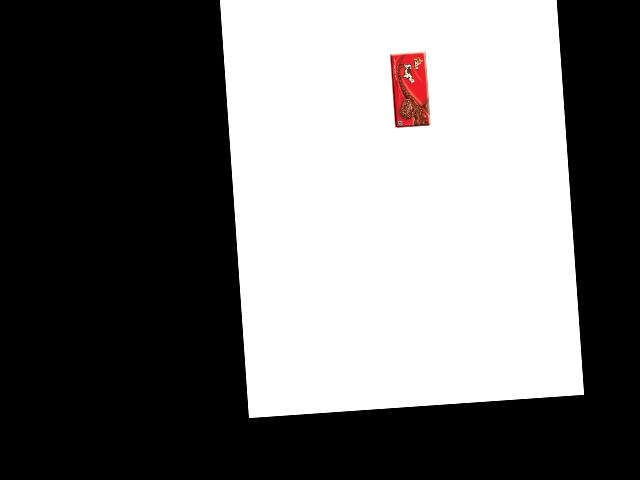chocolate: (386, 49, 432, 130)
